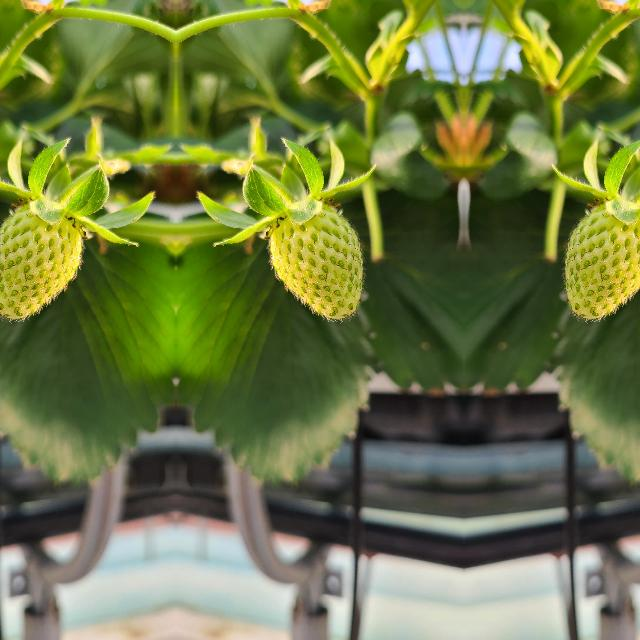Health_25: (269, 204, 361, 318), (0, 204, 81, 318), (565, 204, 640, 318)
